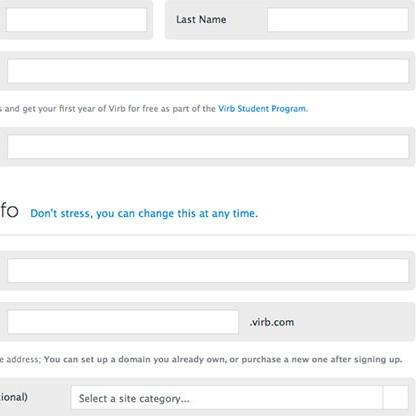field: (3, 133, 409, 160), (4, 257, 409, 284), (3, 58, 410, 83), (68, 383, 411, 410), (4, 310, 240, 334), (3, 5, 148, 32), (265, 6, 409, 32)
